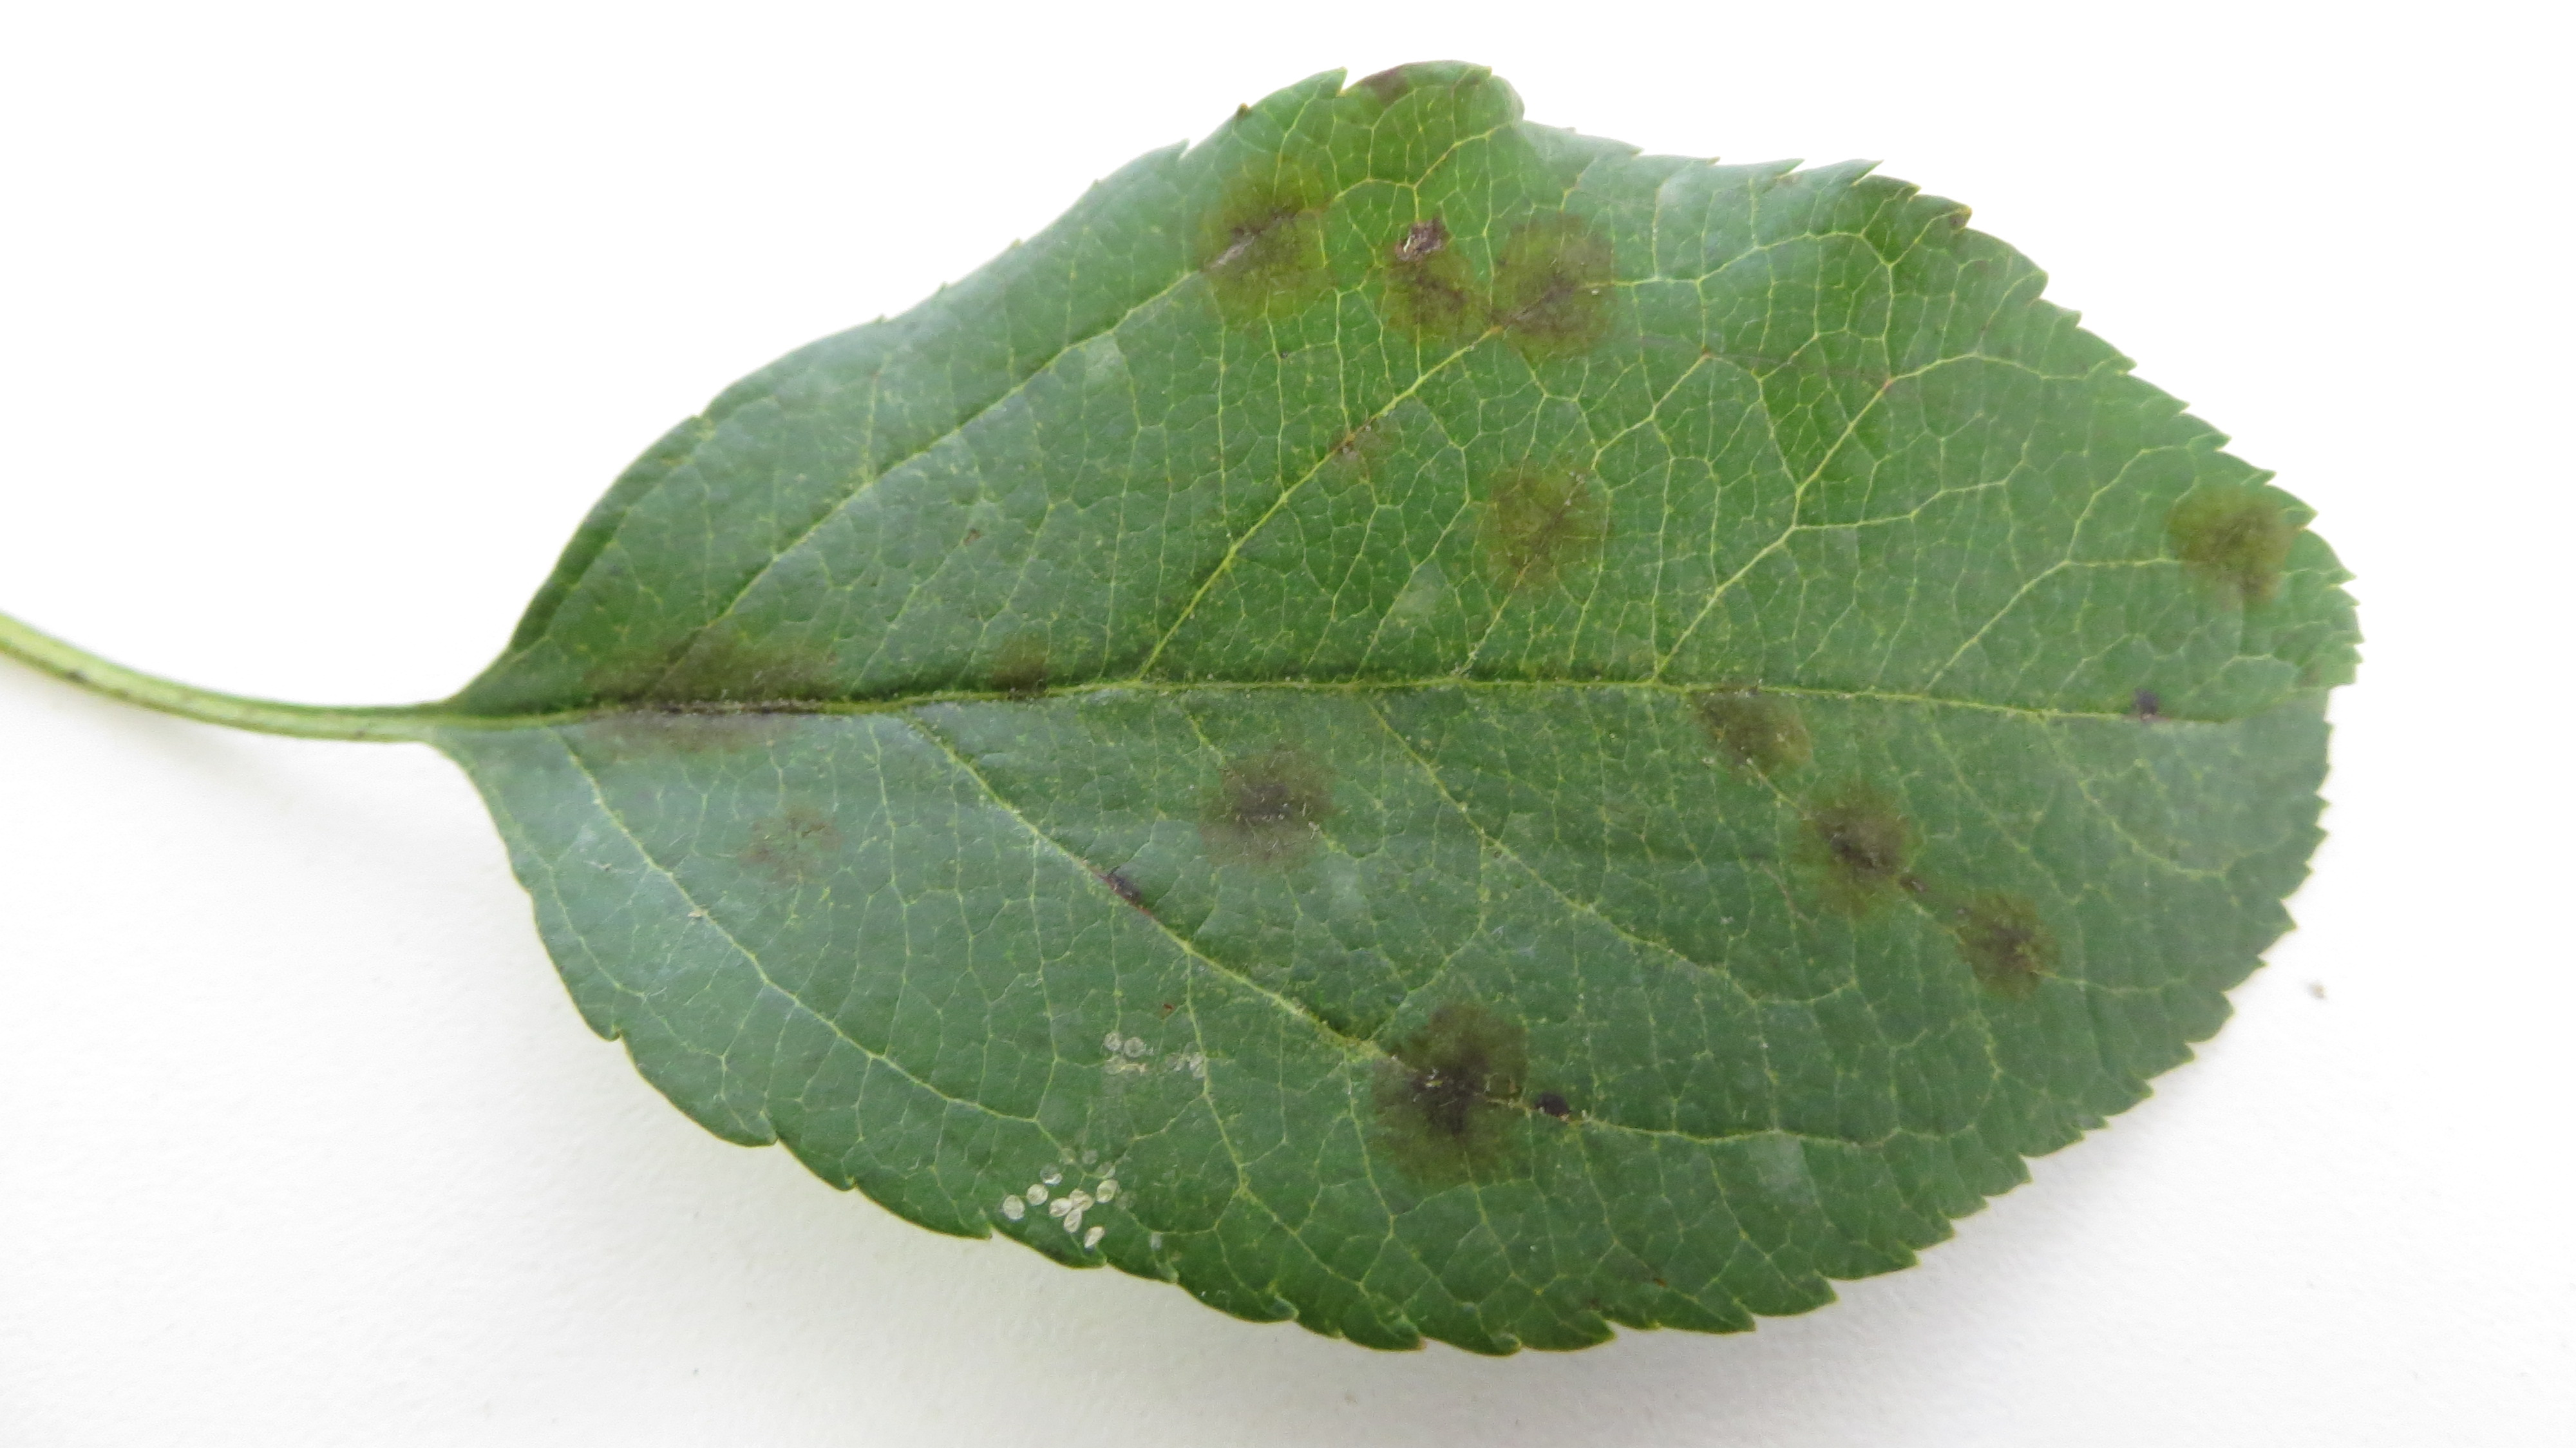sarna: (1350, 995, 1534, 1190), (603, 623, 835, 754), (1189, 154, 1339, 329), (1483, 191, 1622, 370), (2150, 460, 2302, 618), (1175, 733, 1341, 876), (1463, 457, 1615, 602), (1789, 772, 1923, 920), (1683, 666, 1826, 797), (1927, 883, 2059, 1016), (1361, 198, 1472, 356), (729, 775, 862, 897), (1307, 397, 1396, 487), (978, 635, 1074, 719), (1086, 839, 1161, 933), (2081, 666, 2171, 736), (1513, 1067, 1591, 1126)
